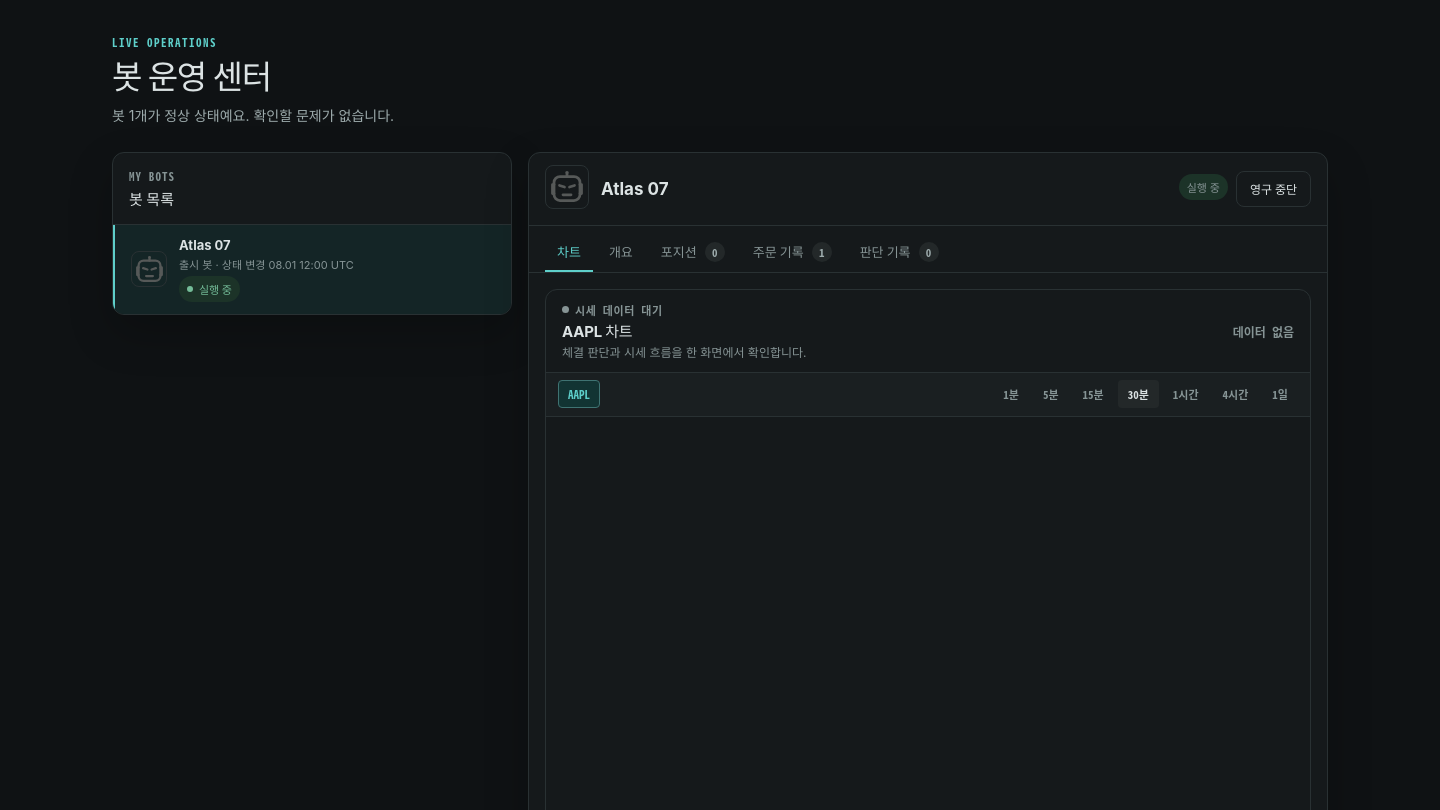
Bot trading and ledger surfaces › keeps order quantities exactly as the ledger sent them
Click the tab "주문 기록 1": coordinates (792, 253) [741,234,844,272]
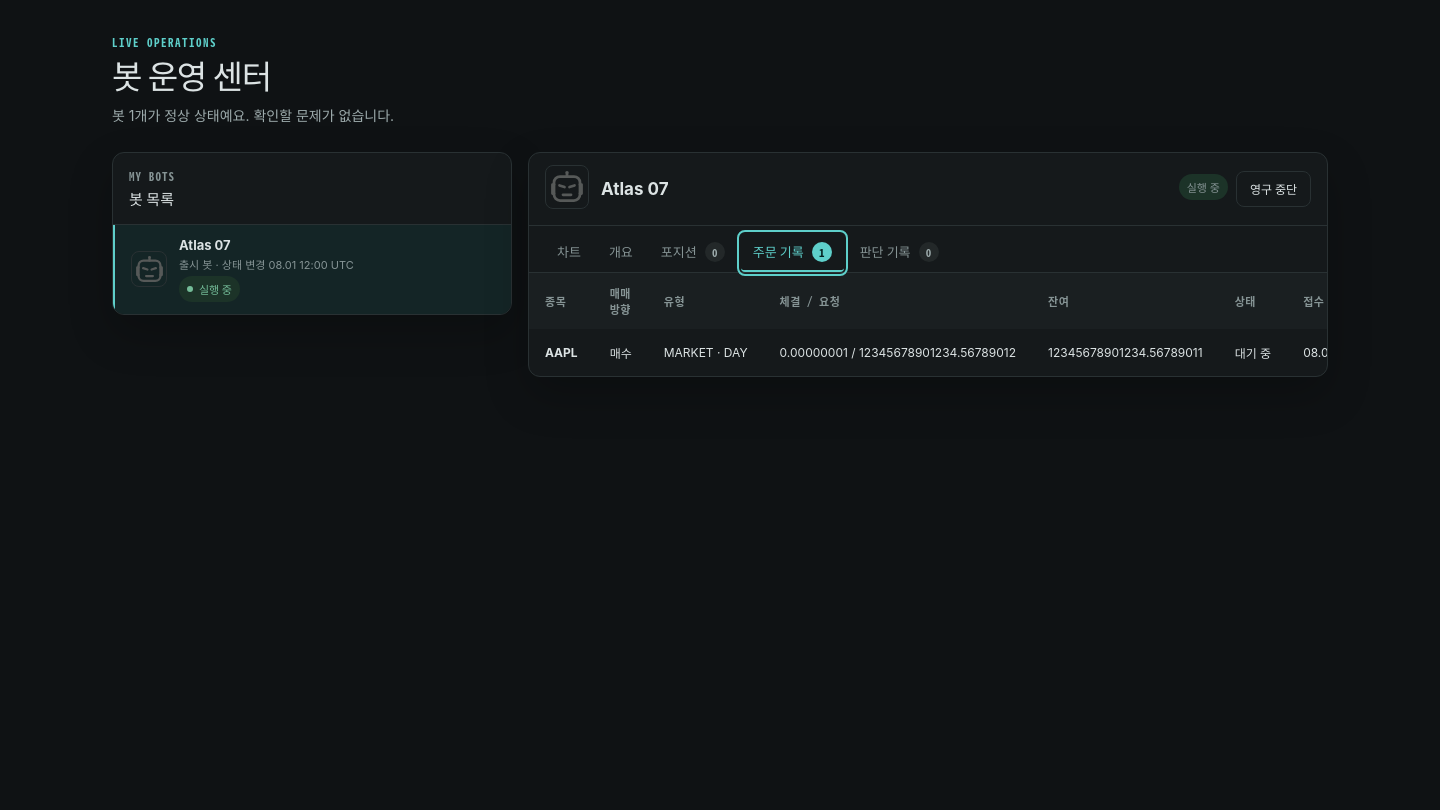
Check: the text "0.00000001 / 12345678901234.56789012" is shown, box [764,329,1032,376]
Check: the text "12345678901234.56789011" is shown, box [1032,329,1219,376]
